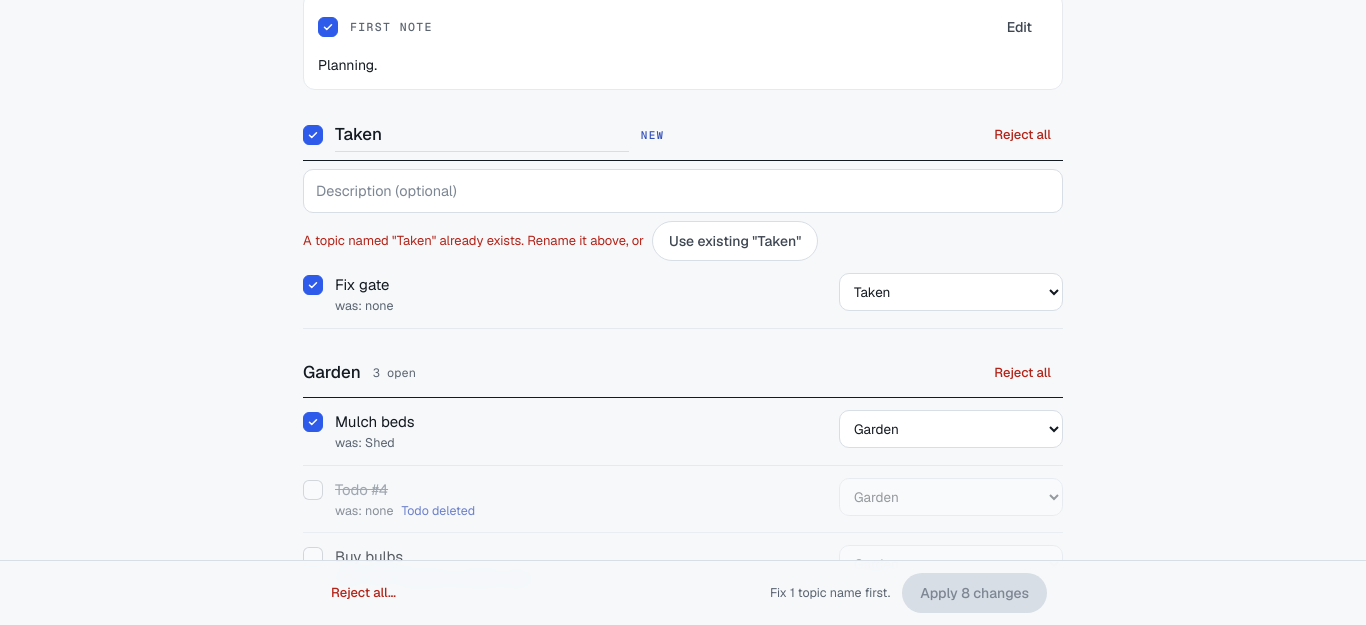
Test case: ProposalReview › a 422 marks the rows and keeps the draft; a second apply re-maps after edits
The width and height of the screenshot is (1366, 625).
(page scrolled)
What coordinates should you click on to do the following:
click the button "Use existing \"Taken\""
I would click on:
 (735, 241)
Its box is [652, 221, 818, 261].
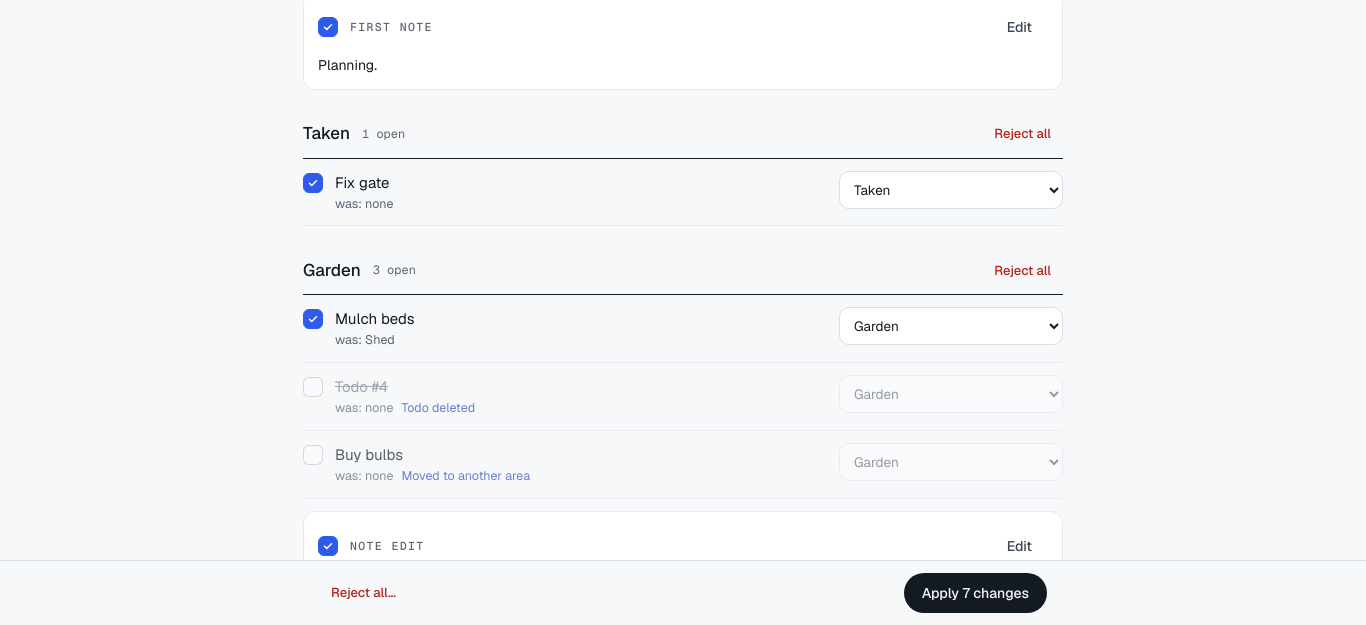
What coordinates should you click on to do the following:
click the button "Apply 7 changes"
I would click on:
 (975, 593)
Its box is [904, 573, 1047, 613].
(page scrolled)
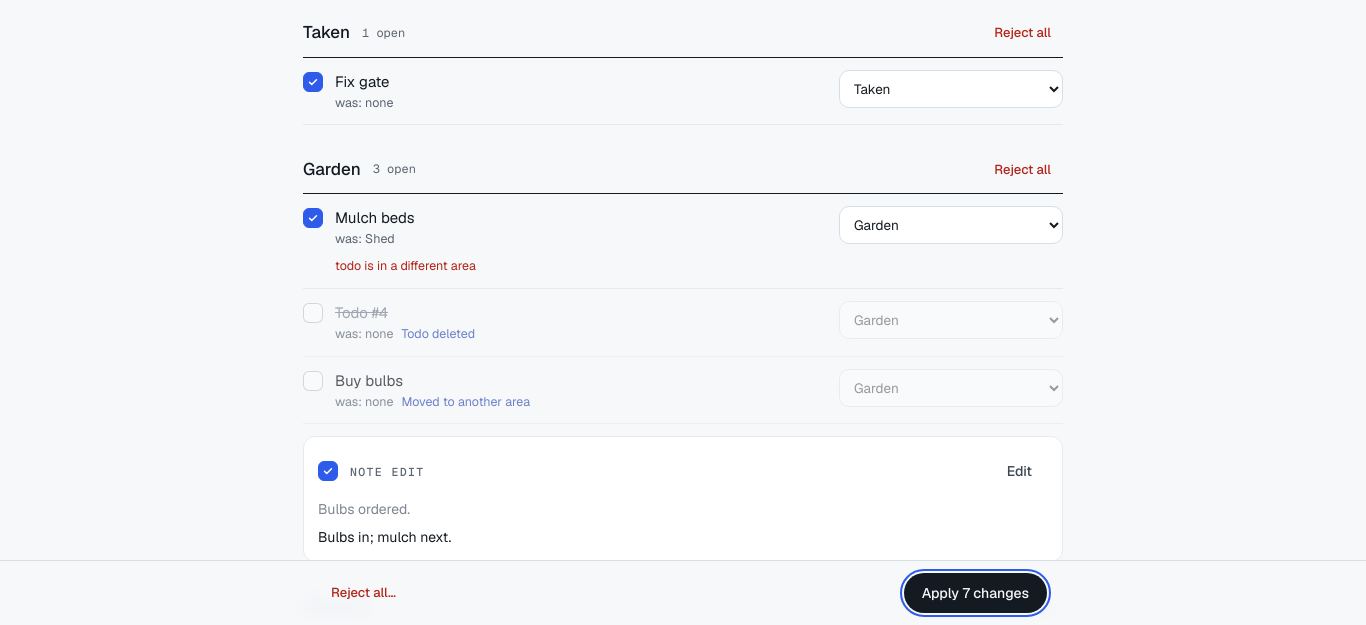
Now the text "todo is in a different area" is shown, box [335, 257, 476, 274]
What coordinates should you click on to do the following:
click the checkbox named "Accept \"Mulch beds\""
I would click on:
 (313, 218)
Its box is [303, 208, 323, 228].
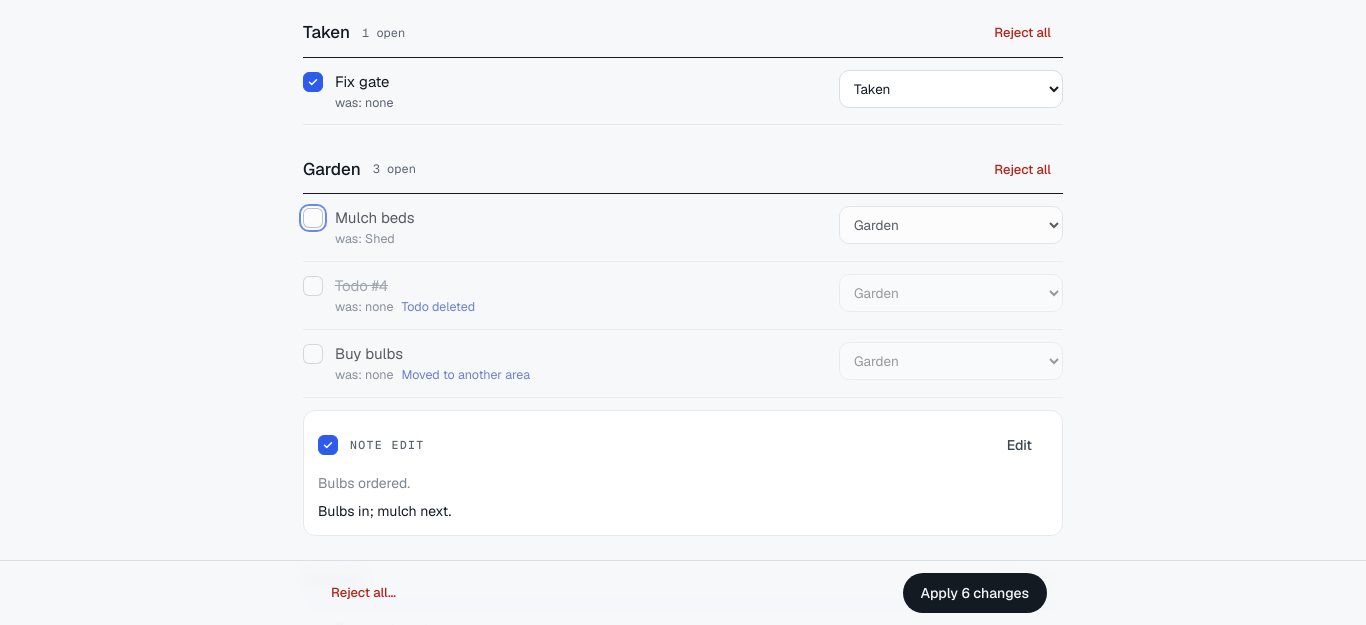
Now the text "todo is in a different area" is gone
What coordinates should you click on to do the following:
click the button "Apply 6 changes"
I would click on:
 (975, 593)
Its box is [903, 573, 1047, 613].
(page scrolled)
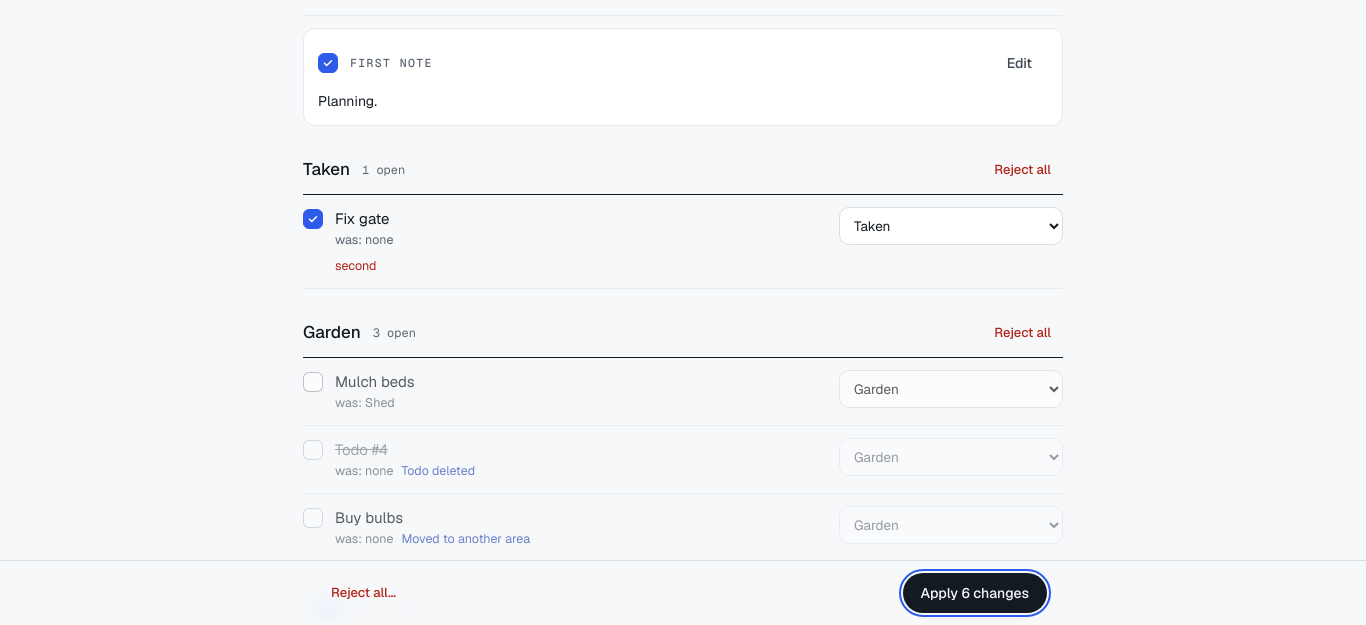
Now the text "second" is shown, box [335, 257, 377, 274]
